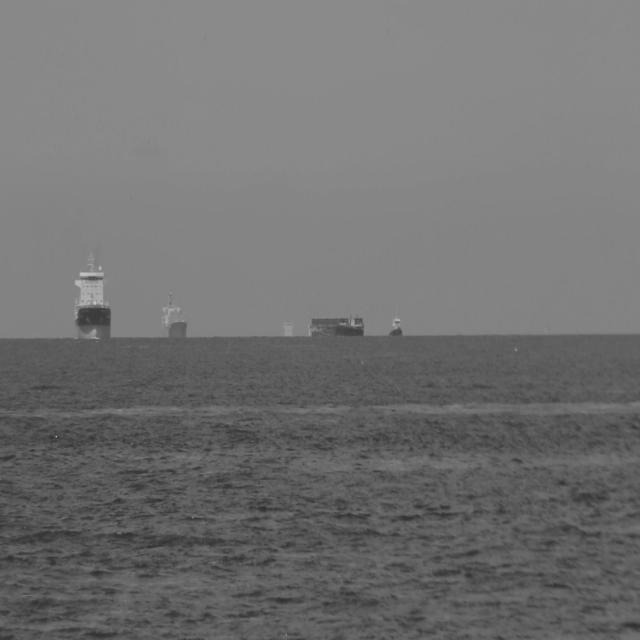ship: (71, 258, 112, 344), (159, 292, 188, 344), (305, 316, 362, 339), (383, 312, 403, 340)
